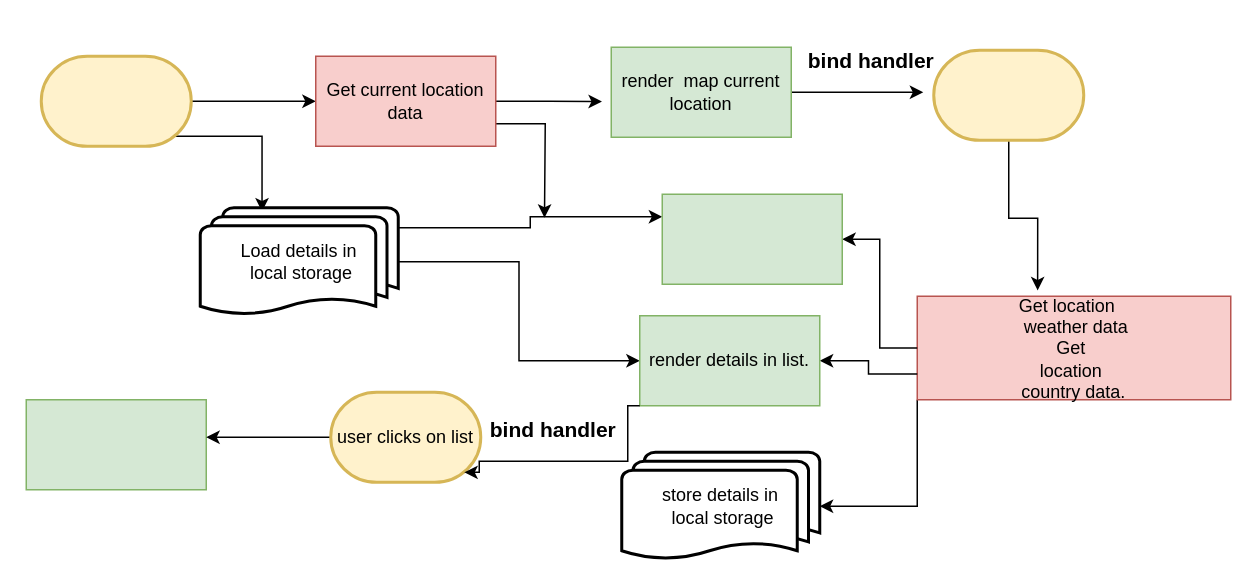
This 1257x587 diagram has some shape labels left out. The centre of each missing label's shape, as x and y in pixels:
"move map to detail location" belongs at point (115, 444).
"Page Loads" belongs at point (115, 100).
"render details on map" belongs at point (751, 238).
"user clicks on map" belongs at point (1008, 94).
